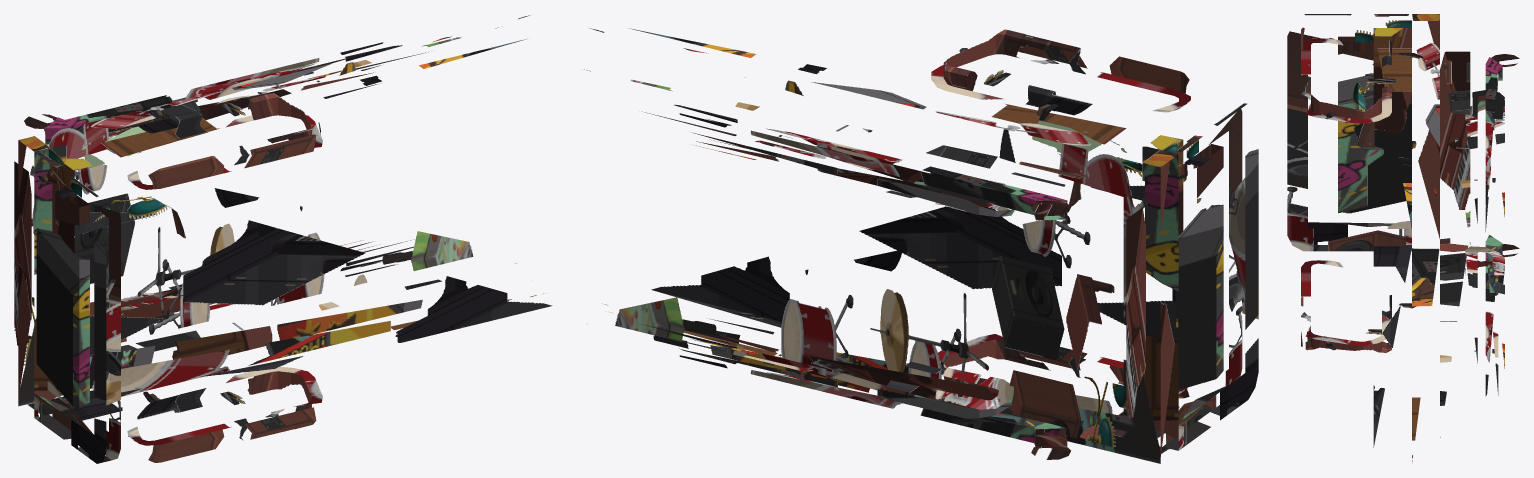
3 renders of one model, left to right at view 1: azimuth 30°, elevation 25°; view 2: azimuth 150°, elevation 25°; view 3: azimuth 270°, elevation 25°, orthographic. The views are drawn at different scales.
Bounding box in the file's own units: 1.89 × 1.05 × 0.8505.
